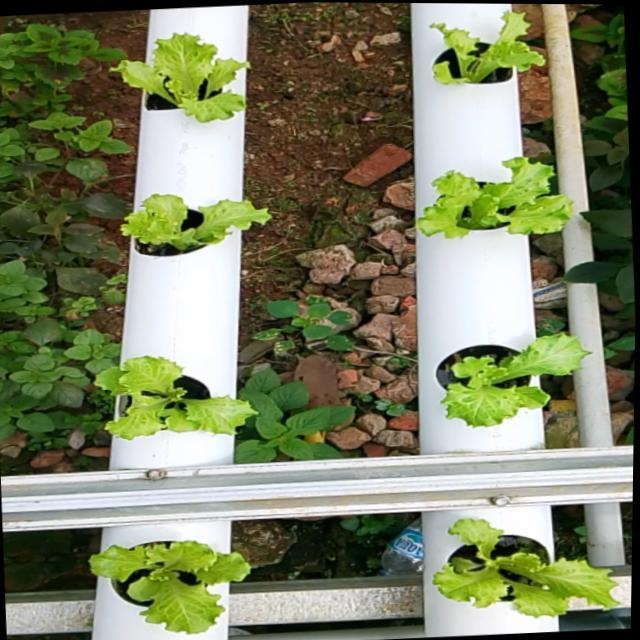Baby: (438, 514, 625, 613), (93, 522, 254, 634), (435, 336, 590, 430), (98, 354, 263, 439), (415, 158, 575, 240), (111, 35, 250, 124), (120, 195, 271, 258), (432, 14, 546, 87)
